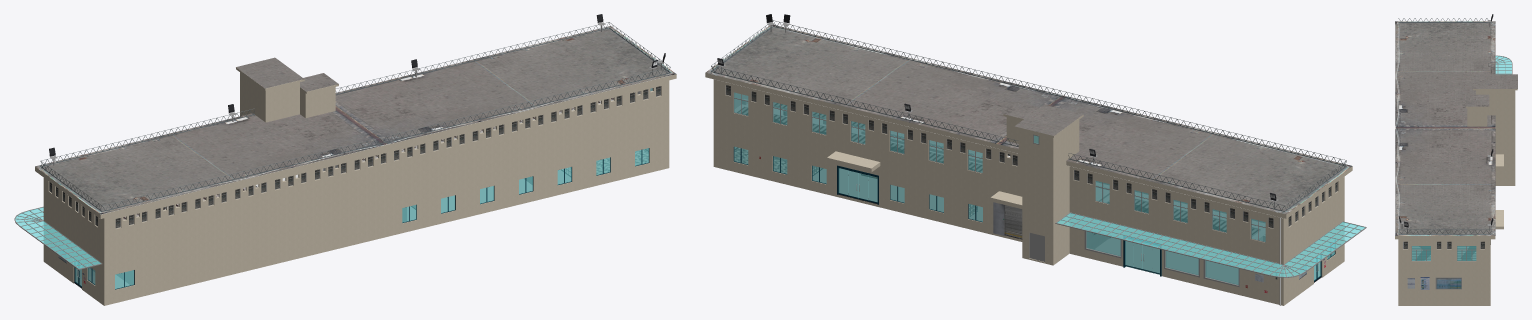
File: CK-1haobangonglou01-JZ.FBX
The picture shows the model from 3 angles, left to right: view 1: azimuth 30°, elevation 25°; view 2: azimuth 150°, elevation 25°; view 3: azimuth 270°, elevation 25°; orthographic projection. The views are drawn at different scales.
Parts seen in each view (by area): view 1: main, ding; view 2: main, ding; view 3: ding, main.
Part boxes in pixels (x1=…): main: x1=14, y1=14, x2=676, y2=305; ding: x1=35, y1=26, x2=675, y2=214; main: x1=705, y1=14, x2=1366, y2=305; ding: x1=705, y1=25, x2=1351, y2=218; ding: x1=1395, y1=21, x2=1495, y2=238; main: x1=1395, y1=14, x2=1517, y2=305.
Size of the model in its own units: 66.42 by 13.93 by 15.59.
